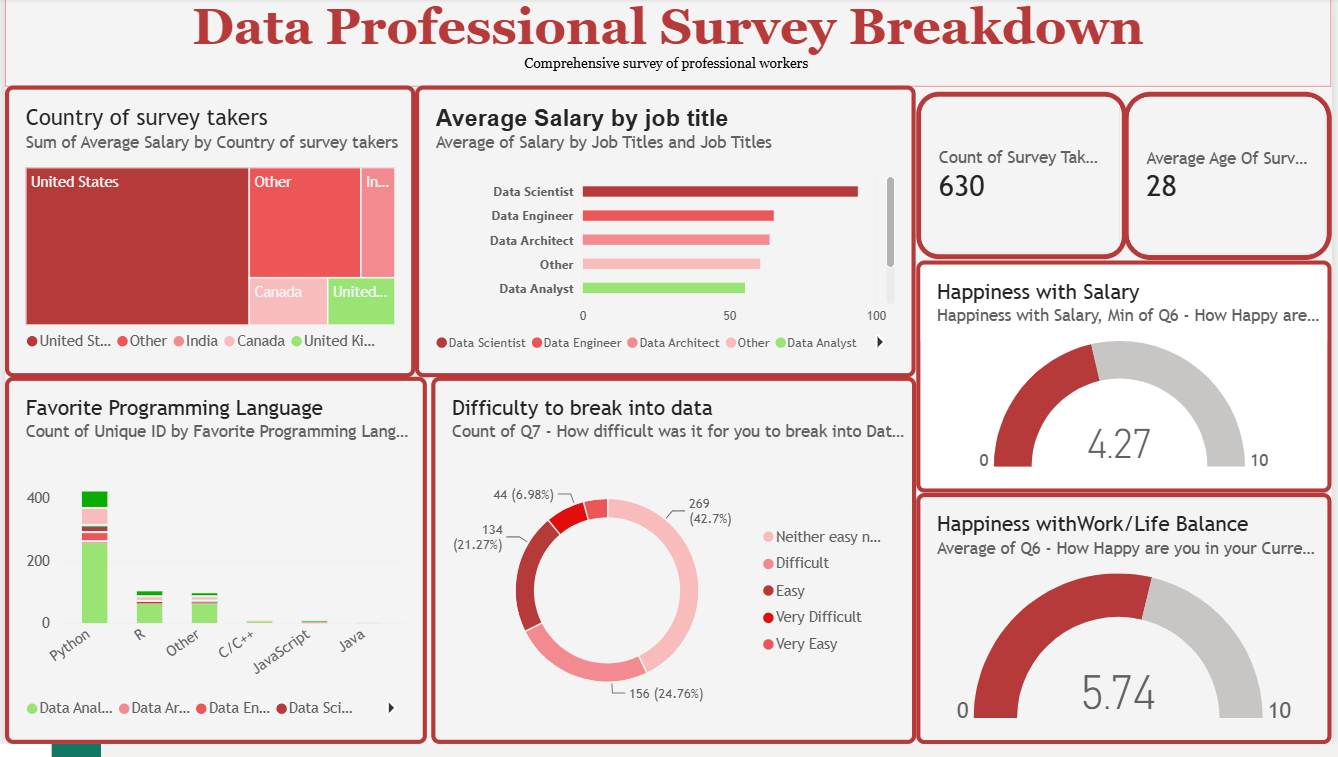

Layout of this report page (visuals, bound fields, positions):
{"tool":"powerbi","page":{"name":"Page 1","canvas":[1280,720],"ordinal":0},"visuals":[{"type":"textbox","box":[0,0,1280,85.7],"z":0},{"type":"cardVisual","fields":{"Data":["Count(Data Professional Survey.Unique ID)"]},"box":[879.2,90.5,203,161.4],"z":1000},{"type":"cardVisual","fields":{"Data":["Median(Data Professional Survey.Q10 - Current Age)"]},"box":[1079.8,90.5,200.5,162.6],"z":2000},{"type":"barChart","title":"Average Salary by job  title","fields":{"Category":["Data Professional Survey.Q1 - Which Title Best Fits your Current Role?.1"],"Y":["Avg(Data Professional Survey.Average Salary)"],"Series":["Data Professional Survey.Q1 - Which Title Best Fits your Current Role?.1"]},"box":[396.2,84.4,483,281.3],"z":3000},{"type":"columnChart","title":"Favorite Programming Language ","fields":{"Category":["Data Professional Survey.Q5 - Favorite Programming Language.1"],"Y":["CountNonNull(Data Professional Survey.Unique ID)"],"Series":["Data Professional Survey.Q1 - Which Title Best Fits your Current Role?.1"]},"box":[0,365.6,407.2,354.6],"z":4000},{"type":"treemap","title":" Country of survey takers","fields":{"Group":["Data Professional Survey.Q11 - Which Country do you live in?.1"],"Values":["Sum(Data Professional Survey.Average Salary)"]},"box":[0,84.4,396.2,281.3],"z":5000},{"type":"gauge","title":"Happiness with Salary","fields":{"Y":["Avg(Data Professional Survey.Q6 - How Happy are you in your Current Position with the following? (Salary))"],"MinValue":["Min(Data Professional Survey.Q6 - How Happy are you in your Current Position with the following? (Salary))"],"MaxValue":["Max(Data Professional Survey.Q6 - How Happy are you in your Current Position with the following? (Salary))"]},"box":[879.2,253.1,401.1,223.8],"z":6000},{"type":"gauge","title":"Happiness withWork/Life Balance","fields":{"Y":["Avg(Data Professional Survey.Q6 - How Happy are you in your Current Position with the following? (Work/Life Balance))"],"MinValue":["Min(Data Professional Survey.Q6 - How Happy are you in your Current Position with the following? (Work/Life Balance))"],"MaxValue":["Max(Data Professional Survey.Q6 - How Happy are you in your Current Position with the following? (Work/Life Balance))"]},"box":[879.2,478.1,401.1,242.1],"z":7000},{"type":"donutChart","title":"Difficulty to break into data","fields":{"Category":["Data Professional Survey.Q7 - How difficult was it for you to break into Data?"],"Y":["CountNonNull(Data Professional Survey.Q7 - How difficult was it for you to break into Data?)"]},"box":[410.9,365.6,468.3,354.6],"z":8000}]}

Visuals, with their boxes in screenshot pixels (x1, y1, x2, y2), scaled from the page's 1280x720 canvas onto the 1338x757 screenshot:
textbox: locate(0, 0, 1337, 90)
cardVisual - Count(Data Professional Survey.Unique ID): locate(919, 95, 1131, 265)
cardVisual - Median(Data Professional Survey.Q10 - Current Age): locate(1129, 95, 1337, 266)
"Average Salary by job  title" barChart: locate(414, 89, 919, 384)
"Favorite Programming Language " columnChart: locate(0, 384, 426, 756)
" Country of survey takers" treemap: locate(0, 89, 414, 384)
"Happiness with Salary" gauge: locate(919, 266, 1337, 501)
"Happiness withWork/Life Balance" gauge: locate(919, 503, 1337, 756)
"Difficulty to break into data" donutChart: locate(430, 384, 919, 756)
